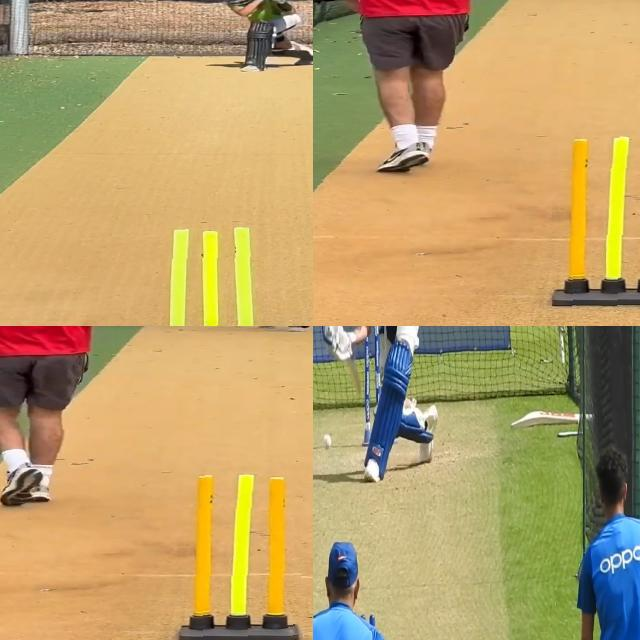Cricket ball: (322, 432, 332, 454)
Stumps: (182, 475, 303, 640), (552, 135, 640, 310), (162, 225, 262, 326)
